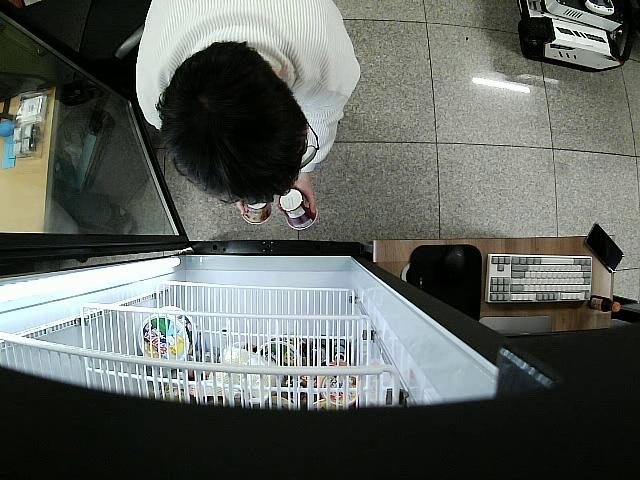00_hand: (293, 167, 318, 216)
06_nuguri_S: (280, 187, 318, 230), (242, 199, 272, 224)
